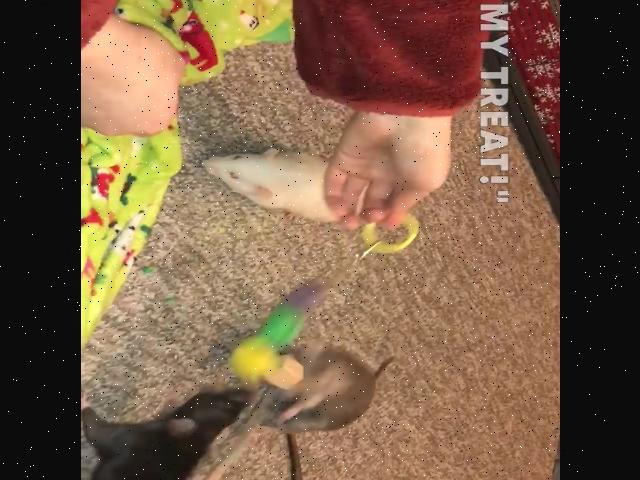Tikus: (80, 389, 252, 480), (200, 148, 350, 226)
